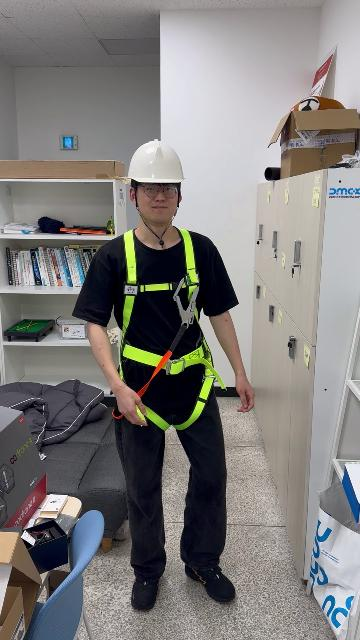helmet_worn: (127, 139, 185, 187)
shoe_worn: (185, 565, 236, 603), (130, 576, 161, 610)
vest_worn: (115, 229, 219, 433)
